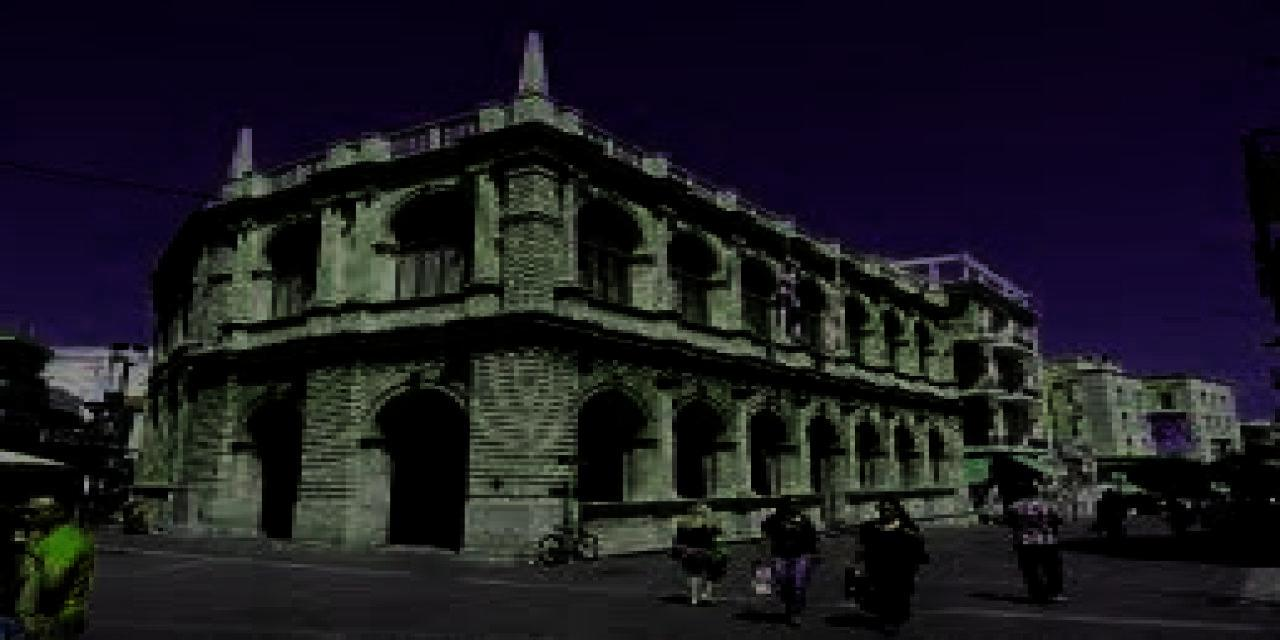Loggia: (112, 29, 955, 554)
